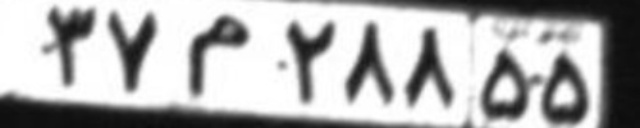2: (282, 17, 336, 103)
3: (47, 3, 98, 86)
5: (538, 50, 592, 124), (482, 46, 529, 120)
7: (105, 7, 158, 92)
8: (345, 20, 393, 104), (405, 26, 454, 106)
mim: (188, 14, 251, 95)
